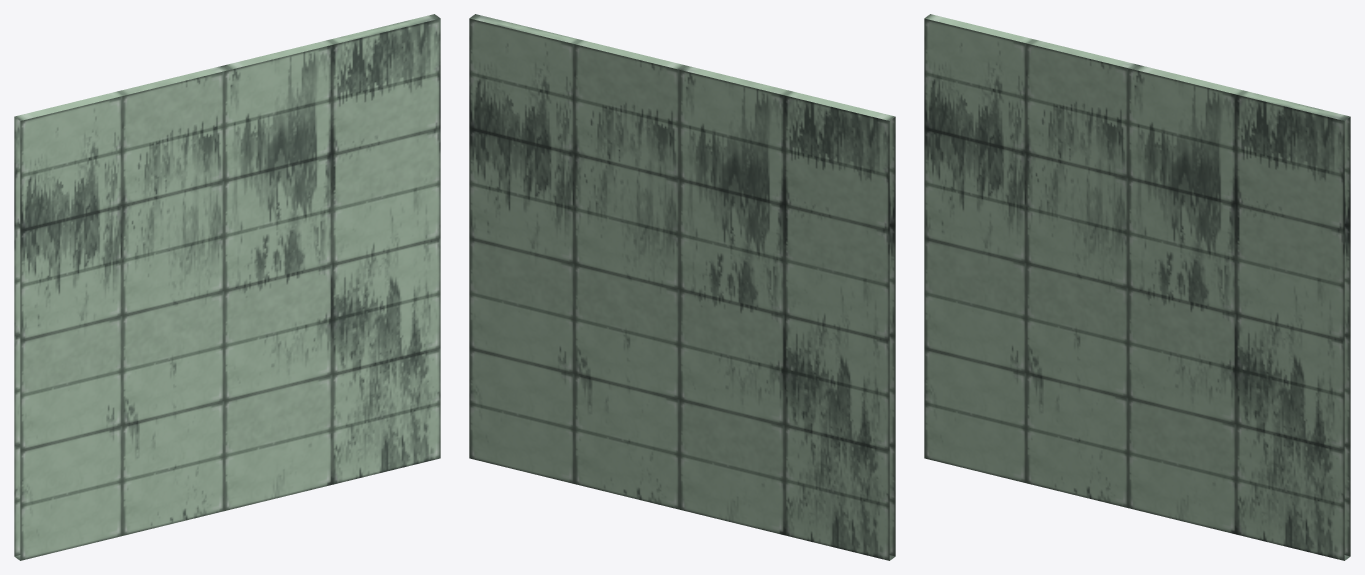
The model's file is sm_wall_standar_02x005x02_a.fbx.
3 views of the same model, side by side, from view 1: azimuth 30°, elevation 25°; view 2: azimuth 150°, elevation 25°; view 3: azimuth 330°, elevation 25° (orthographic).
Visible parts, largest first — view 1: sm_wall_standar_02x005x02_a; view 2: sm_wall_standar_02x005x02_a; view 3: sm_wall_standar_02x005x02_a.
Part boxes in pixels (bbox=[...]): sm_wall_standar_02x005x02_a: bbox=[14, 14, 440, 560]; sm_wall_standar_02x005x02_a: bbox=[469, 14, 895, 560]; sm_wall_standar_02x005x02_a: bbox=[924, 14, 1350, 560].
Bounding box in the file's own units: 200 × 200 × 5.
